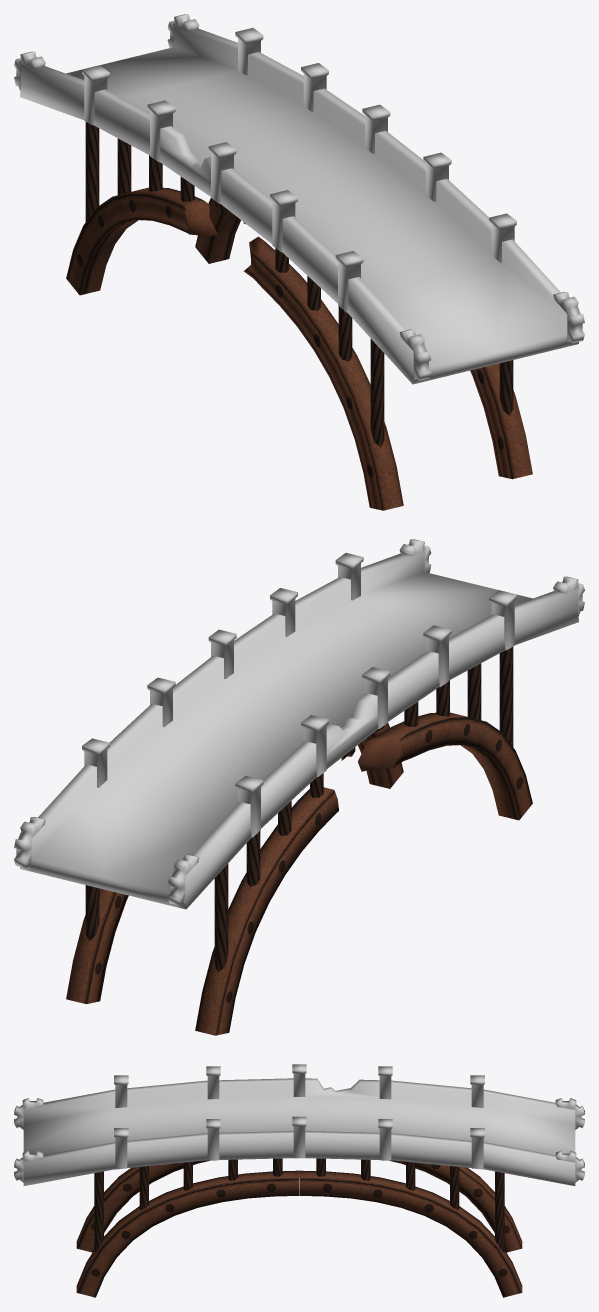
File: Brücke.fbx
The picture shows the model from 3 angles, top to bottom: view 1: azimuth 30°, elevation 25°; view 2: azimuth 150°, elevation 25°; view 3: azimuth 270°, elevation 25°; orthographic projection. The views are drawn at different scales.
Parts seen in each view (by area): view 1: Brücke; view 2: Brücke; view 3: Brücke.
Part boxes in pixels (bbox=[...]): Brücke: bbox=[14, 14, 584, 510]; Brücke: bbox=[14, 539, 584, 1035]; Brücke: bbox=[14, 1064, 584, 1297].
Bounding box in the file's own units: 780 × 1107 × 3207.
